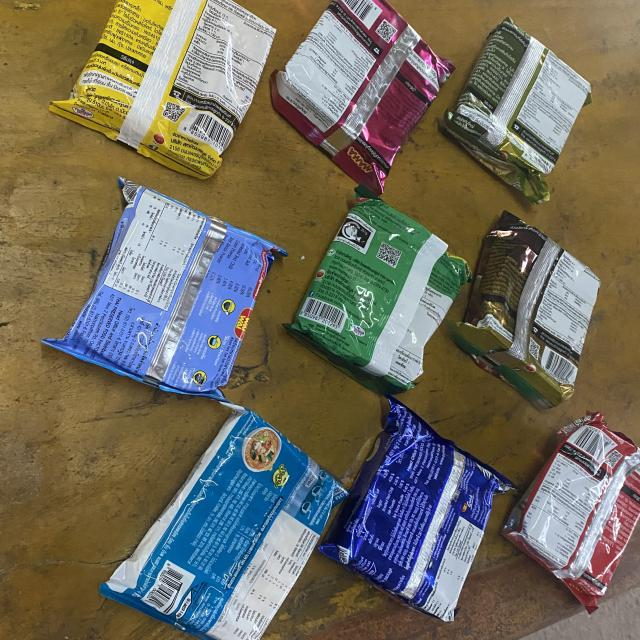plastik: (100, 402, 348, 640), (43, 177, 275, 403), (320, 396, 514, 621), (50, 0, 276, 178), (285, 185, 471, 394), (271, 0, 454, 194), (448, 210, 601, 409), (503, 412, 640, 612), (444, 18, 592, 202)
